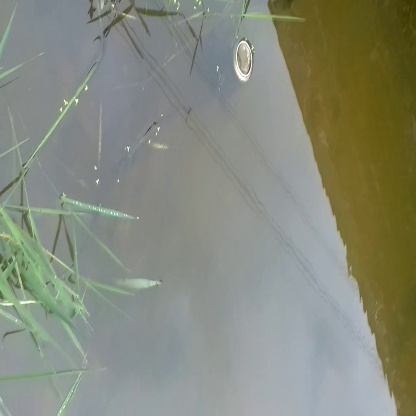bottle: (223, 37, 264, 85)
